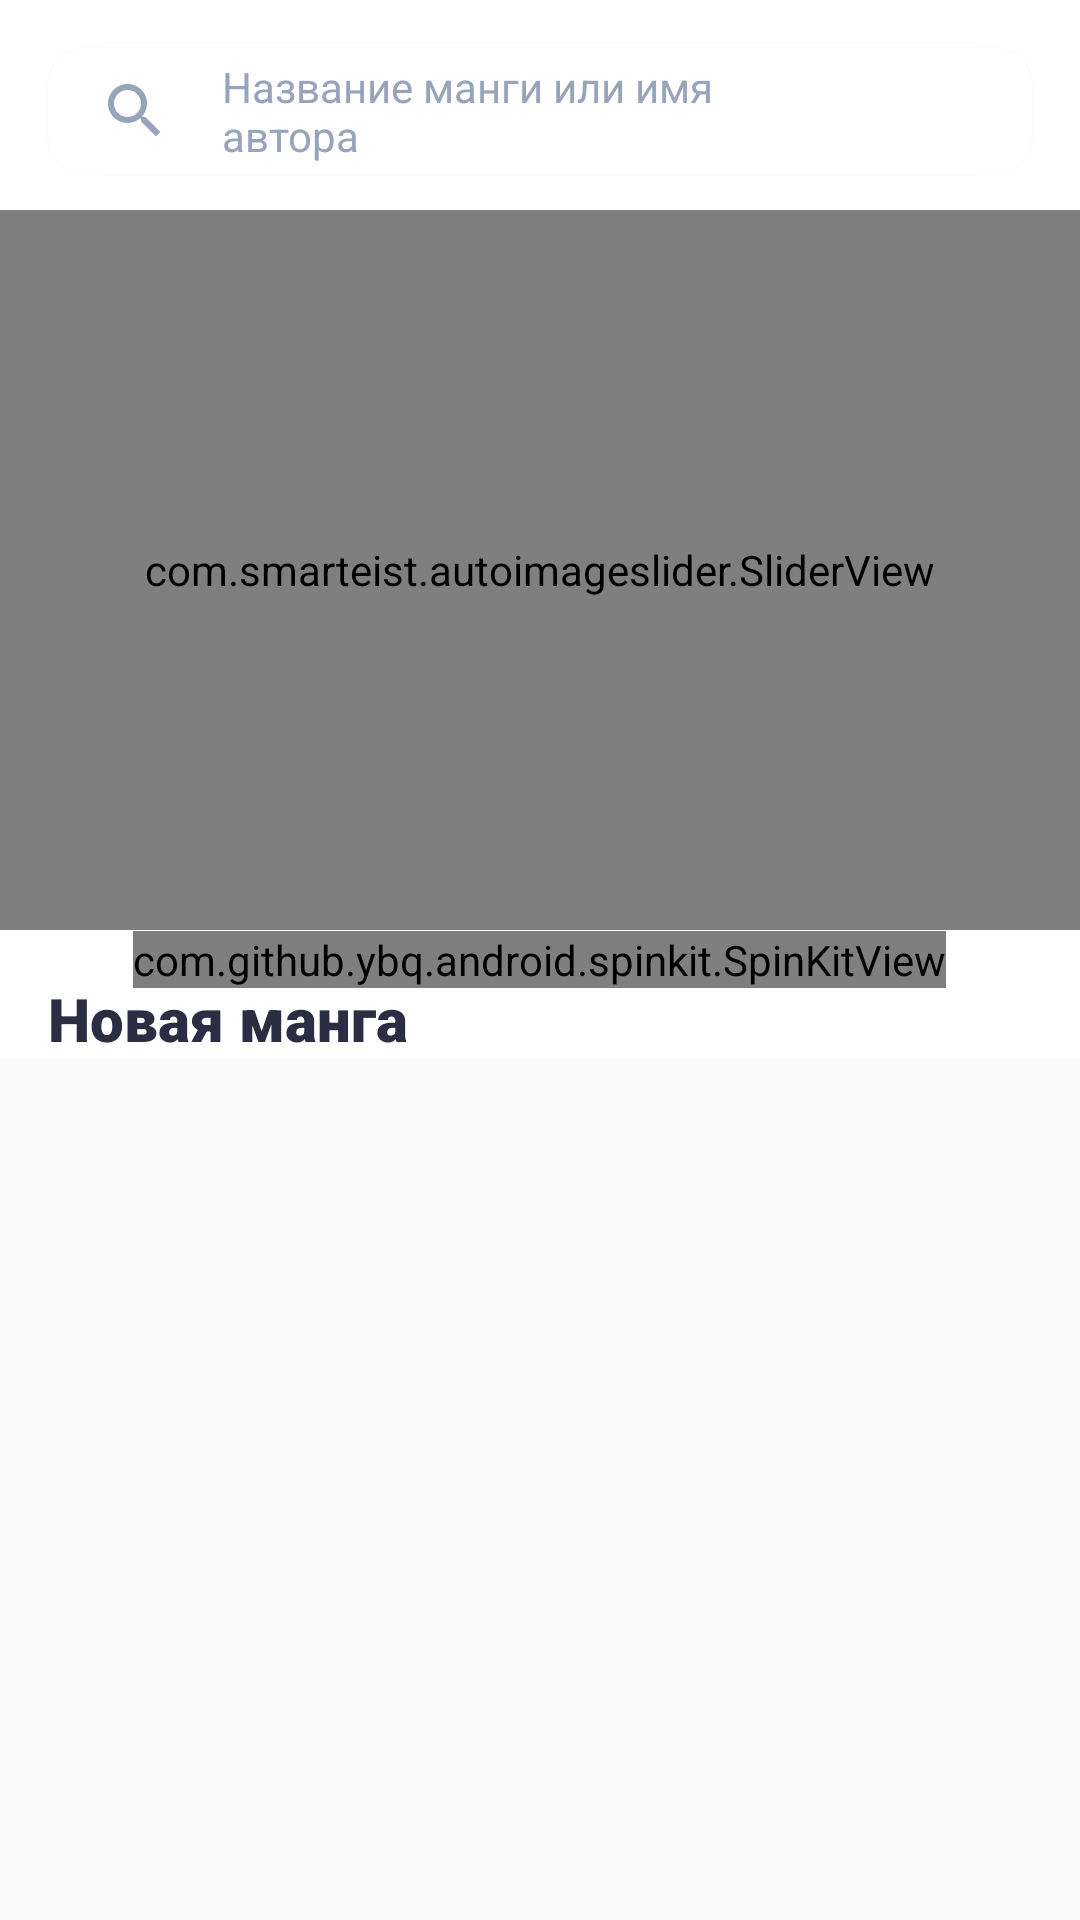

Named icons in this screenshot (1080×1920) and their centers, (x,y):
search: (134,110)
